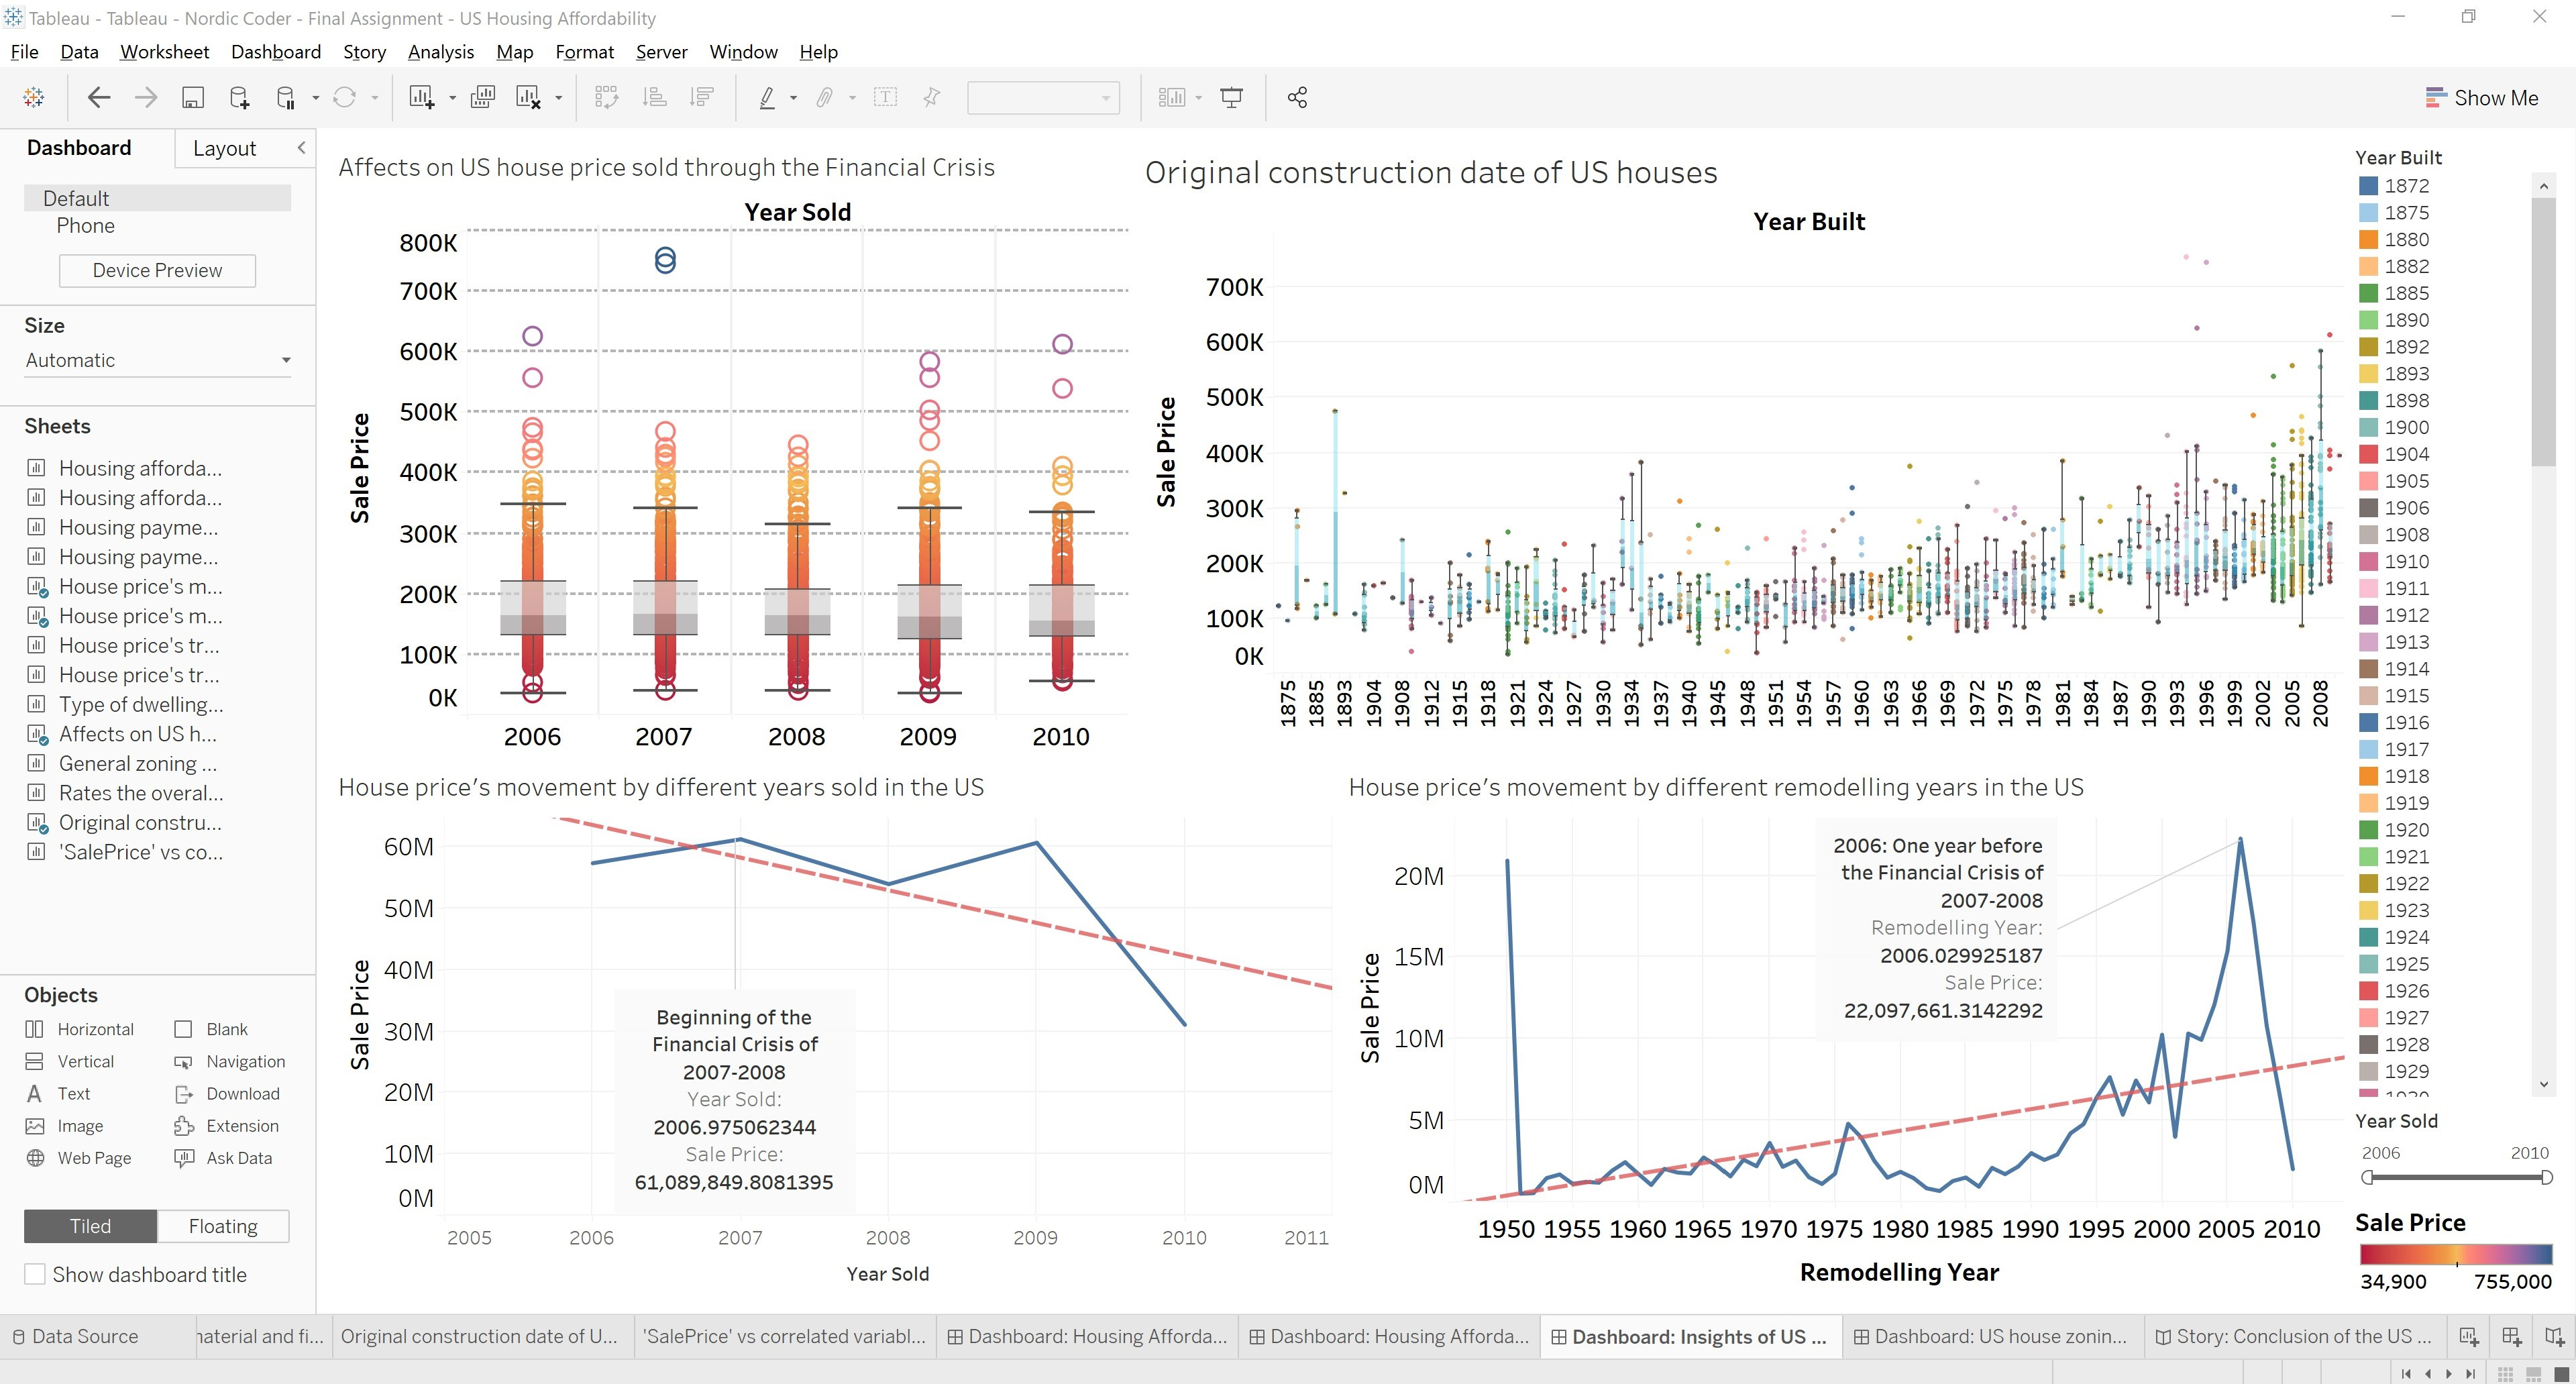

Layout of this report page (visuals, bound fields, positions):
{"tool":"tableau","page":{"name":"Dashboard: Insights of US housing life cycle","canvas":[1000,1000],"units":"permille","ordinal":2},"visuals":[{"type":"worksheet","title":"Affects on US house price sold through the Financial Crisis","mark":"Shape","rows":["SalePrice"],"cols":["YrSold"],"box":[4.8,9.1,357.1,523.4]},{"type":"worksheet","title":"Original construction date of US houses","mark":"Automatic","rows":["SalePrice"],"cols":["YearBuilt"],"box":[361.9,9.1,538.3,523.4]},{"type":"legend","title":"Original construction date of US houses","param":"[federated.0mtpgnv0v9jcej1em37h80tl5cxx].[none:YearBuilt:ok]","box":[900.2,9.1,95.1,813.1]},{"type":"worksheet","title":"House price's movement by different years sold in the US","mark":"Automatic","rows":["SalePrice"],"cols":["YrSold"],"box":[4.8,532.4,447.7,458.5]},{"type":"worksheet","title":"House price's movement by different remodelling years in the US","mark":"Automatic","rows":["SalePrice"],"cols":["YearRemodAdd"],"box":[452.4,532.4,447.7,458.5]},{"type":"filter","title":"House price's movement by different years sold in the US","param":"[federated.0mtpgnv0v9jcej1em37h80tl5cxx].[none:YrSold:qk]","box":[900.2,822.2,95.1,81.5]},{"type":"legend","title":"Affects on US house price sold through the Financial Crisis","param":"[federated.0mtpgnv0v9jcej1em37h80tl5cxx].[sum:SalePrice:qk]","box":[900.2,903.7,95.1,87.2]}]}

Visuals, with their boxes on the dashboard's canvas, which has no fixed pixel size, in thousandths of its width and height (x1, y1, x2, y2). These are canvas units, not pixel positions in the 2576x1384 screenshot, which may show the page scaled, cropped or inside an application window:
"Affects on US house price sold through the Financial Crisis" worksheet (Shape marks): 5,9,362,532
"Original construction date of US houses" worksheet: 362,9,900,532
"Original construction date of US houses" legend: 900,9,995,822
"House price's movement by different years sold in the US" worksheet: 5,532,452,991
"House price's movement by different remodelling years in the US" worksheet: 452,532,900,991
"House price's movement by different years sold in the US" filter: 900,822,995,904
"Affects on US house price sold through the Financial Crisis" legend: 900,904,995,991
